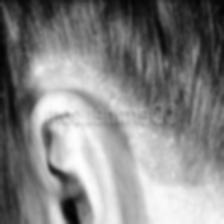Non-Cancerous Skin Condition: (28, 30, 152, 92), (127, 131, 217, 195)
